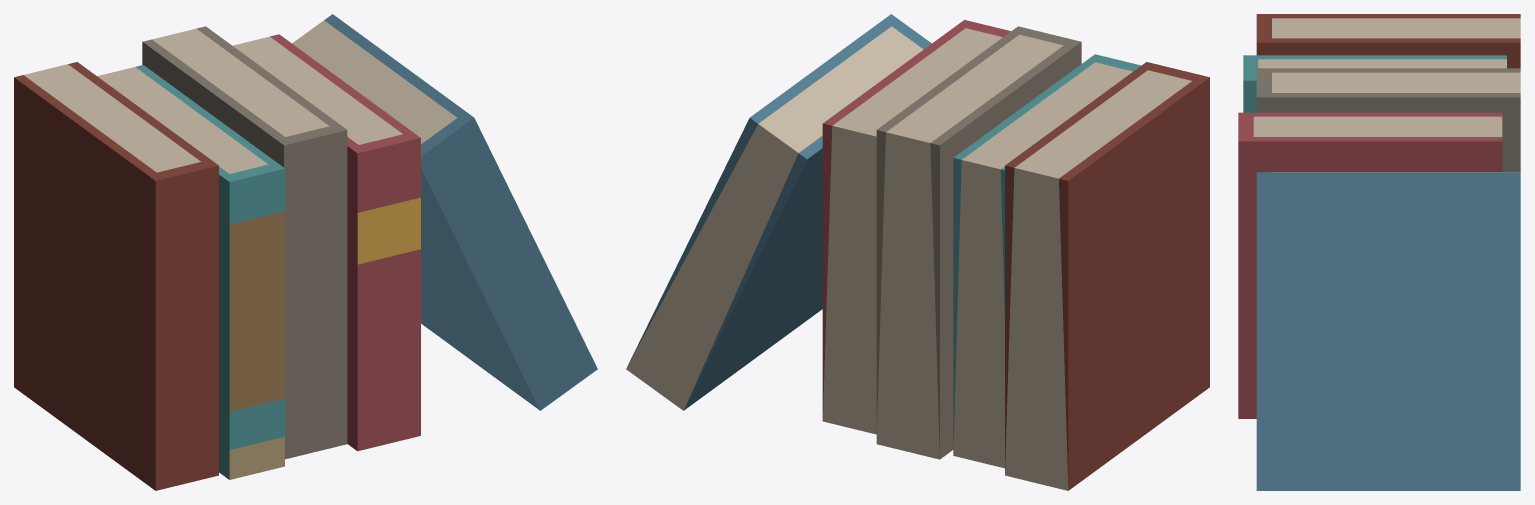
The model's file is SM_Prop_Book_Group_07.fbx.
The picture shows the model from 3 angles, left to right: view 1: azimuth 30°, elevation 25°; view 2: azimuth 150°, elevation 25°; view 3: azimuth 270°, elevation 25°; orthographic projection. The views are drawn at different scales.
Parts seen in each view (by area): view 1: SM_Prop_Book_Group_07; view 2: SM_Prop_Book_Group_07; view 3: SM_Prop_Book_Group_07.
Boxes of the visible parts, bbox=[...] form: SM_Prop_Book_Group_07: bbox=[14, 14, 597, 490]; SM_Prop_Book_Group_07: bbox=[626, 14, 1209, 490]; SM_Prop_Book_Group_07: bbox=[1238, 14, 1520, 490].
Bounding box in the file's own units: 43.94 × 31.14 × 26.07.
